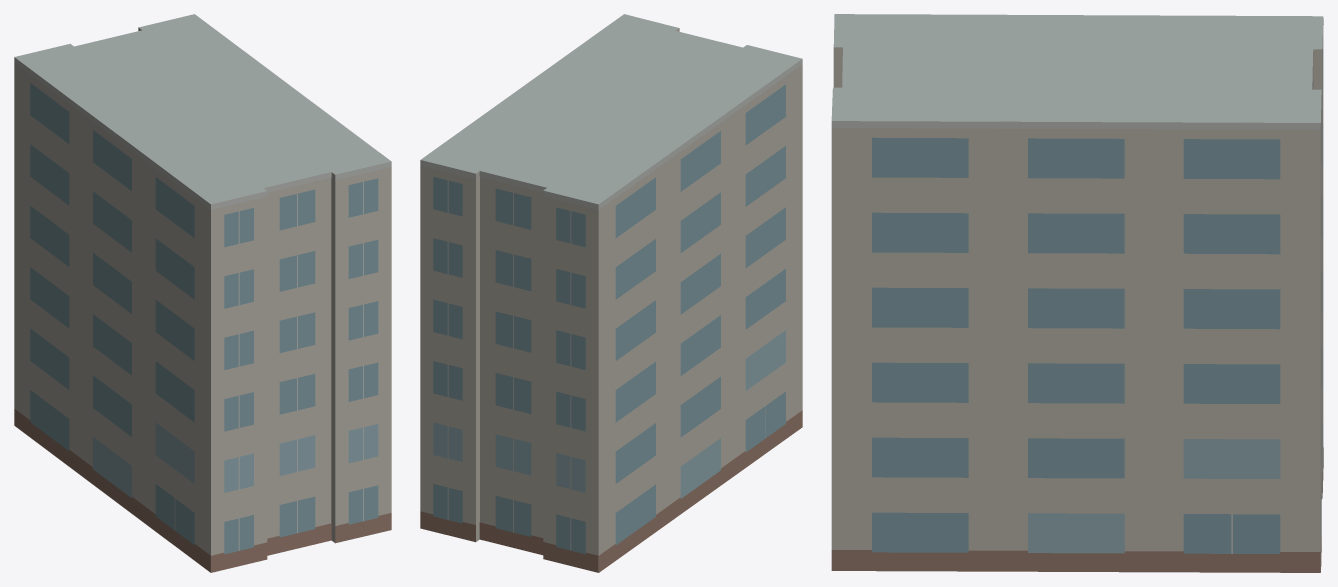
Rendered from survey-upis-32743869.glb.
The picture shows the model from 3 angles, left to right: view 1: azimuth 30°, elevation 25°; view 2: azimuth 150°, elevation 25°; view 3: azimuth 270°, elevation 25°; orthographic projection. The views are drawn at different scales.
Parts seen in each view (by area): view 1: survey-upis-32743869.tmp; view 2: survey-upis-32743869.tmp; view 3: survey-upis-32743869.tmp.
Part boxes in pixels (bbox=[...]): survey-upis-32743869.tmp: bbox=[14, 14, 391, 572]; survey-upis-32743869.tmp: bbox=[420, 14, 802, 572]; survey-upis-32743869.tmp: bbox=[831, 14, 1323, 572].
Size of the model in its own units: 8.38 by 16.1 by 15.96.
